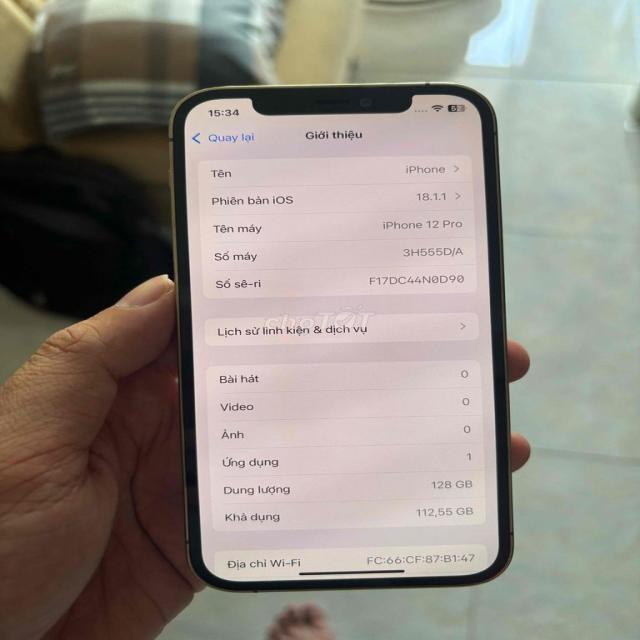gen_12_13: (158, 79, 516, 593)
